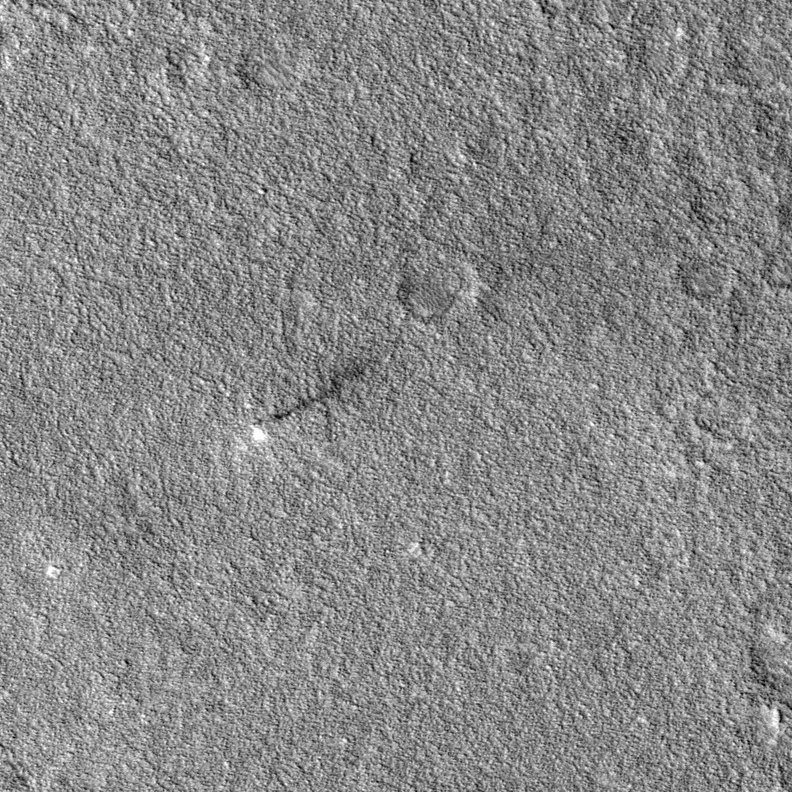dust_devil: (247, 355, 374, 444)
